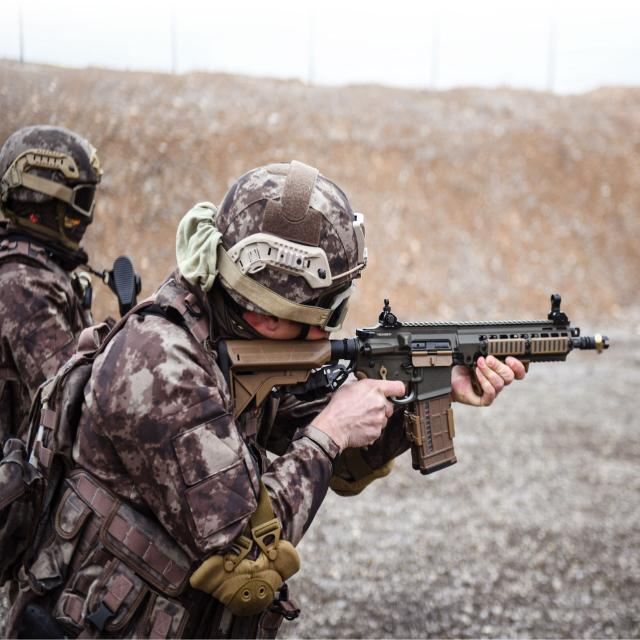Rifle: (224, 295, 610, 476)
